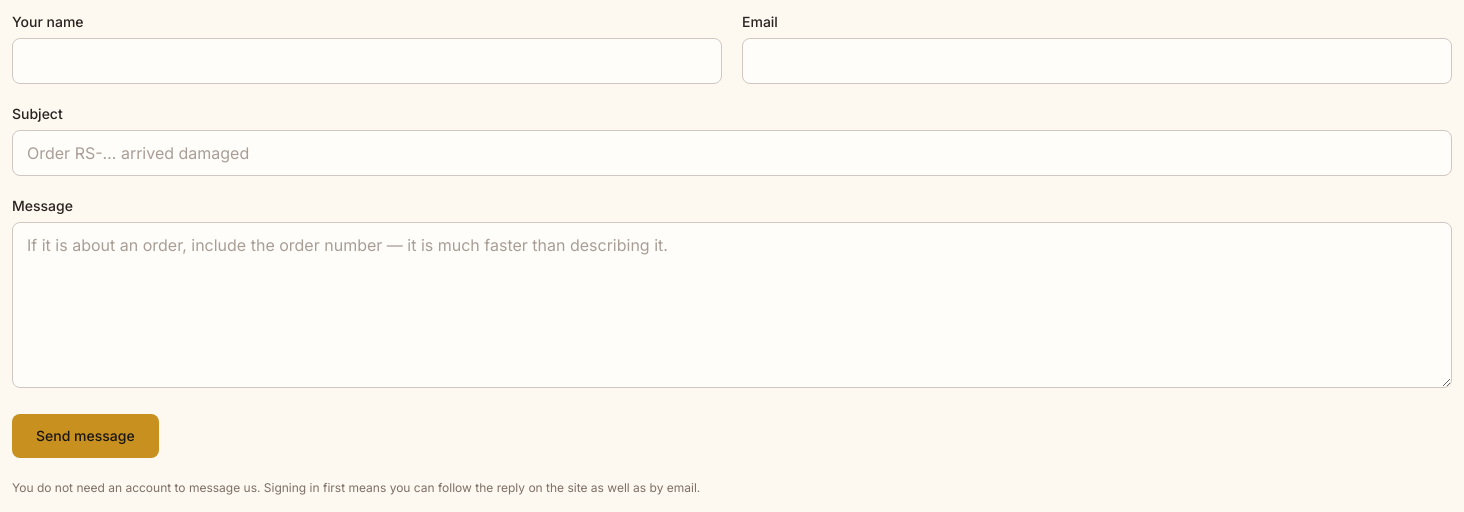
Scenario: signed out › shows the reference number back to the customer
Type "Chinmay" into the field labelled "Your name" at (367, 61), box [12,38,722,84]
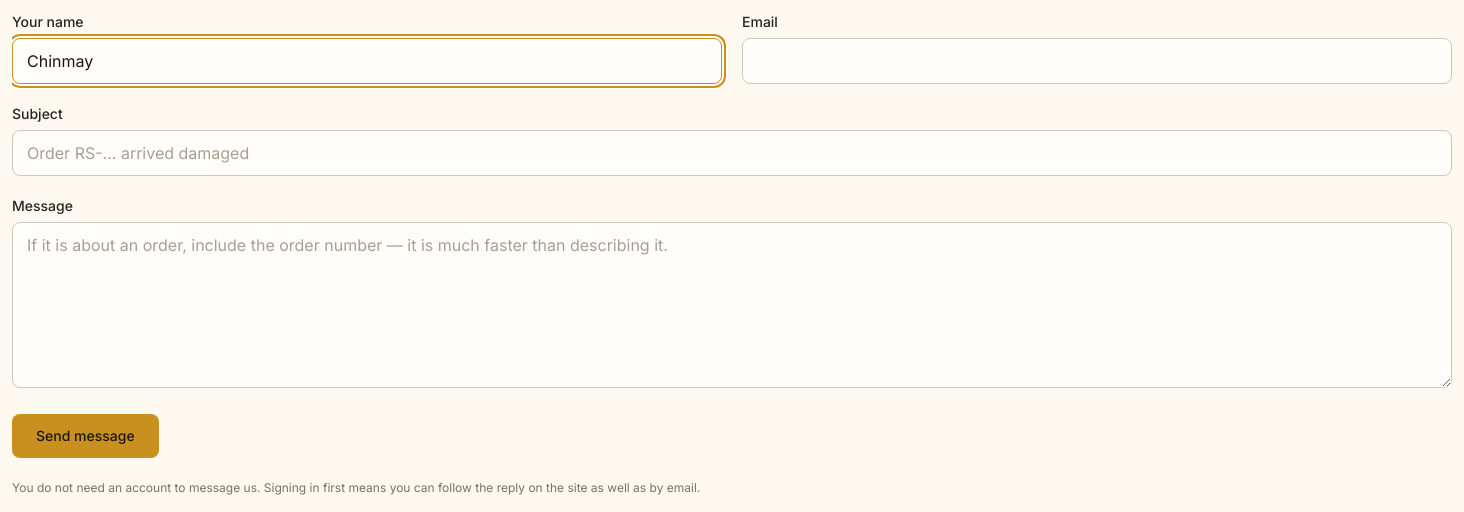
Type "me@example.test" into the field labelled "Email" at (1097, 61), box [742,38,1452,84]
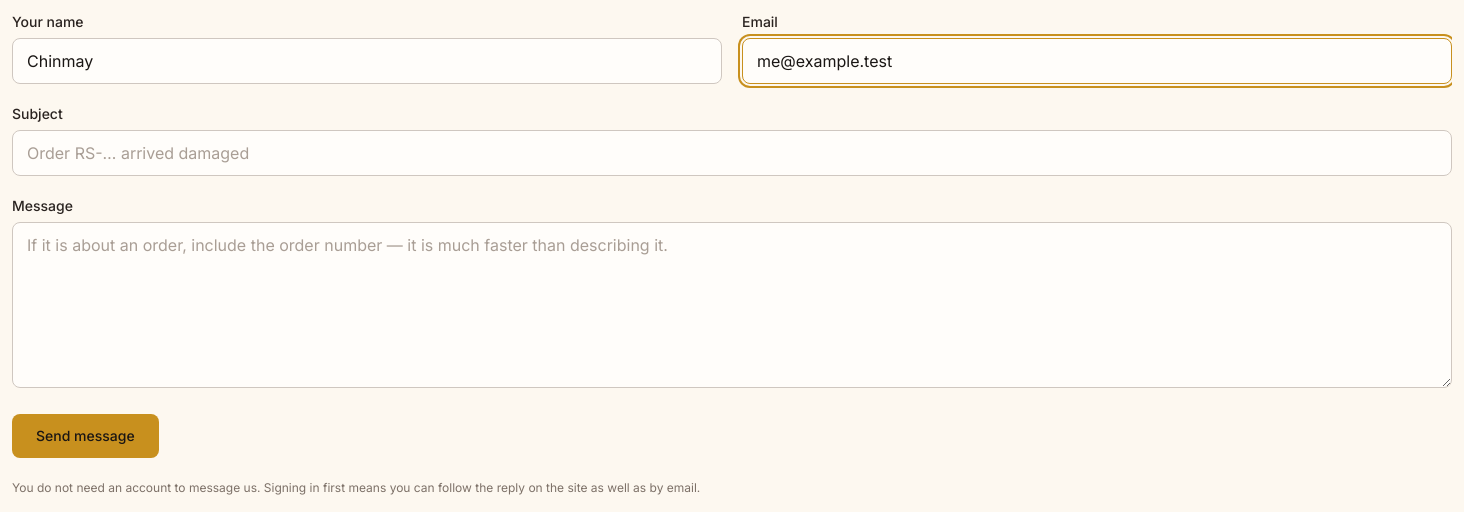
Type "Damaged jar" into the field labelled "Subject" at (732, 153), box [12,130,1452,176]
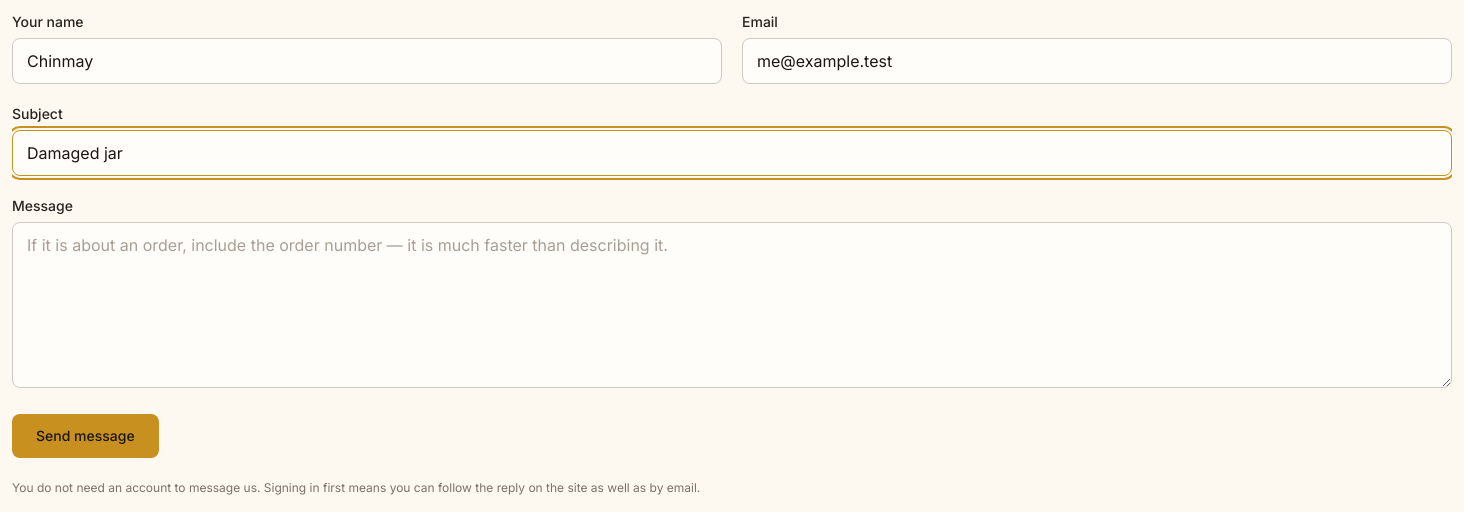
Type "It cracked in transit." into the text box labelled "Message" at (732, 305), box [12,222,1452,388]
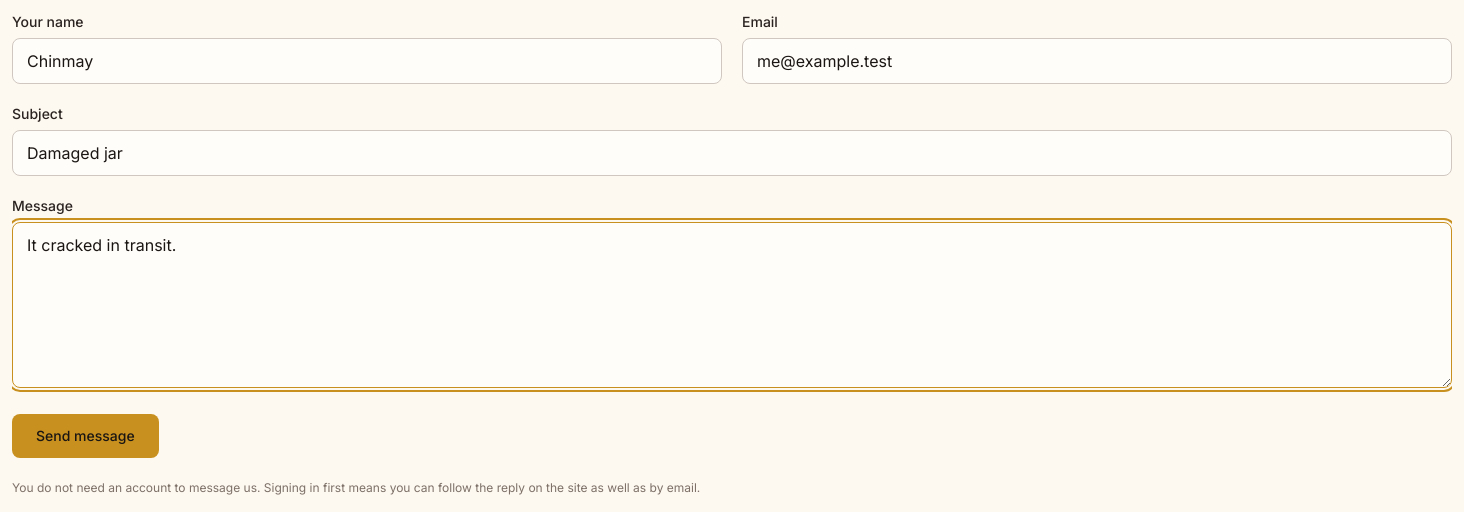
Click the button "Send message" at (85, 436), box [12,414,159,458]
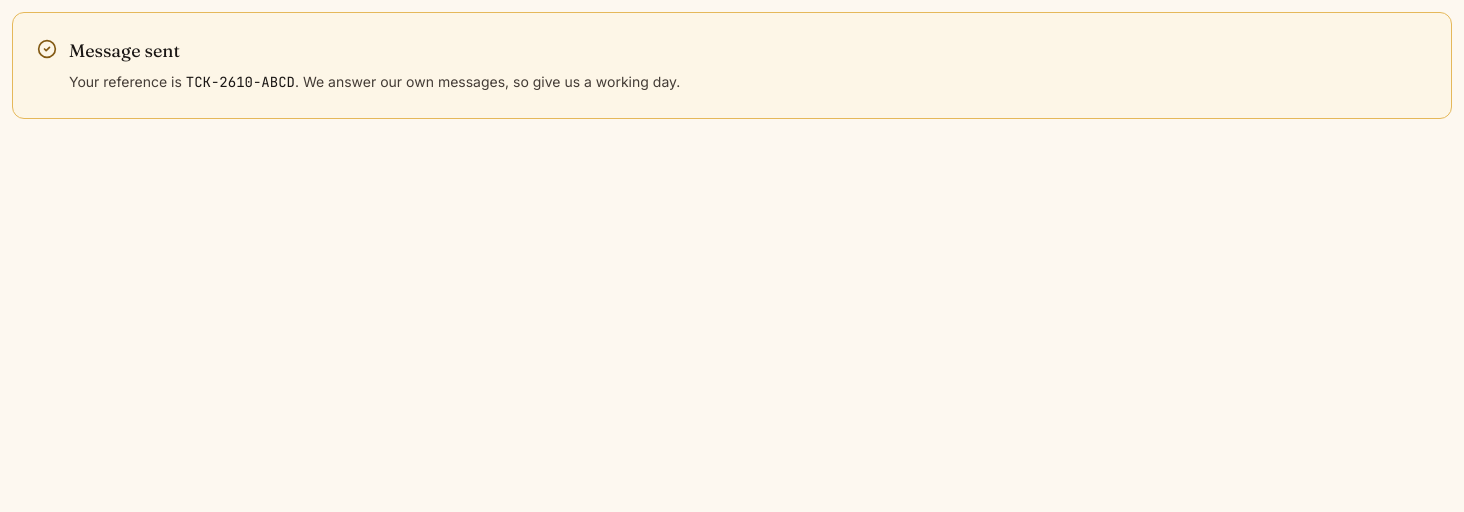
Now the text "TCK-2610-ABCD" is shown, box [186,73,295,91]
